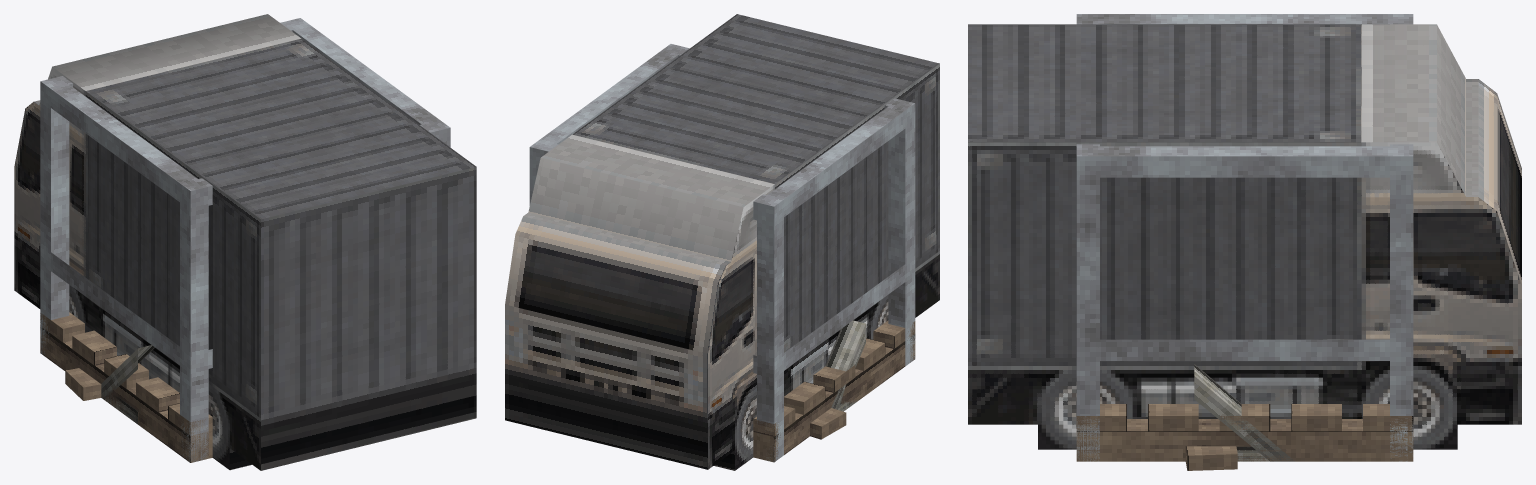
The model's file is props.glb.
3 views of the same model, side by side, from view 1: azimuth 30°, elevation 25°; view 2: azimuth 150°, elevation 25°; view 3: azimuth 270°, elevation 25° (orthographic). The views are drawn at different scales.
Visible parts, largest first — view 1: truck-grey, truck-flat, scaffolding-structure, pallet, detail-awning-wide, planks; view 2: truck-flat, truck-grey, scaffolding-structure, pallet, detail-awning-wide, planks; view 3: truck-grey, truck-flat, scaffolding-structure, pallet, detail-awning-wide, planks.
Part boxes in pixels (bbox=[...]): truck-grey: bbox=[52, 38, 476, 469]; truck-flat: bbox=[14, 14, 476, 470]; scaffolding-structure: bbox=[40, 18, 450, 462]; pallet: bbox=[40, 312, 212, 462]; detail-awning-wide: bbox=[101, 345, 154, 424]; planks: bbox=[65, 367, 101, 400]; truck-flat: bbox=[505, 134, 939, 470]; truck-grey: bbox=[572, 14, 939, 449]; scaffolding-structure: bbox=[529, 44, 915, 461]; pallet: bbox=[753, 320, 915, 462]; detail-awning-wide: bbox=[825, 320, 865, 411]; planks: bbox=[810, 408, 846, 439]; truck-grey: bbox=[968, 24, 1456, 449]; truck-flat: bbox=[968, 24, 1521, 449]; scaffolding-structure: bbox=[1076, 14, 1413, 461]; pallet: bbox=[1076, 404, 1413, 461]; detail-awning-wide: bbox=[1194, 364, 1294, 461]; planks: bbox=[1185, 419, 1237, 470].
Bounding box in the file's own units: 1.13 × 1.01 × 1.64.
Materials: 27 (25 with a texture image).
